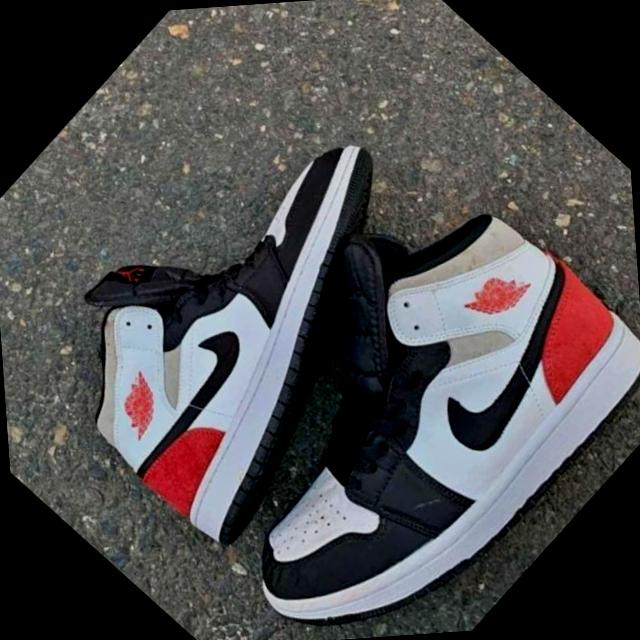nike_fake_jordan: (105, 126, 640, 640), (0, 56, 501, 564)
